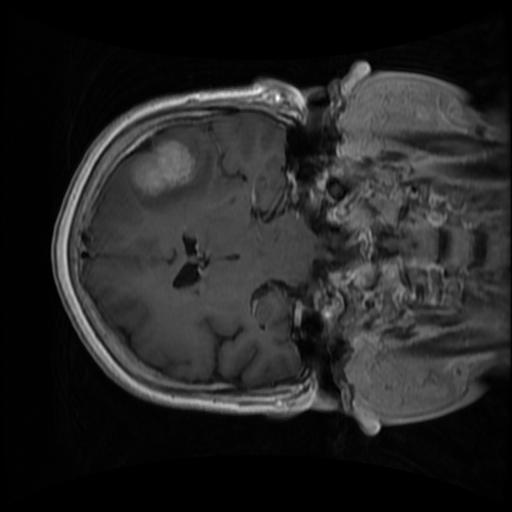meningioma: (130, 140, 198, 197)
